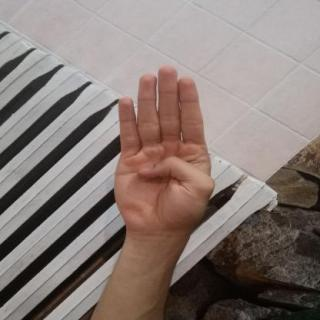KAAF: (93, 56, 237, 245)
